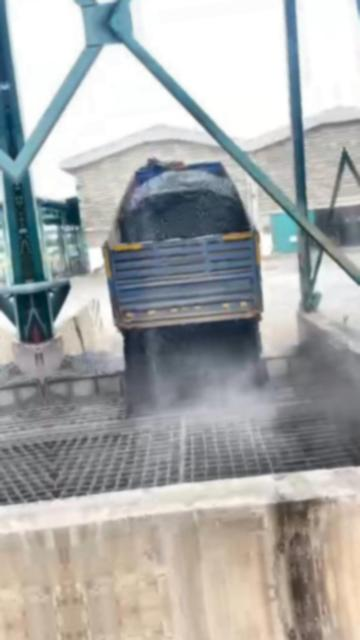gravel: (123, 321, 265, 406), (118, 169, 247, 243), (64, 352, 106, 374)
